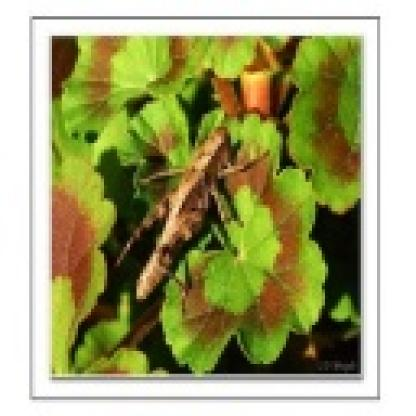grasshopper: (127, 122, 258, 303)
